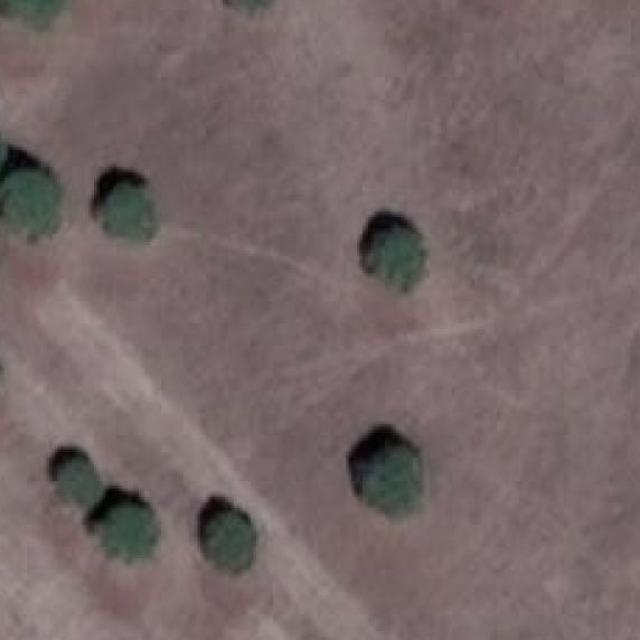Tree: (357, 447, 422, 519), (0, 170, 58, 241), (94, 506, 159, 565), (368, 225, 424, 290), (102, 183, 155, 240), (209, 510, 254, 575), (55, 458, 103, 508), (0, 0, 64, 30), (228, 0, 269, 12)
